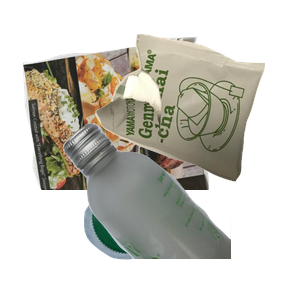glass: (60, 120, 300, 300)
paper: (20, 34, 221, 214)
plastic: (81, 179, 239, 300)
trash: (93, 31, 300, 205)
